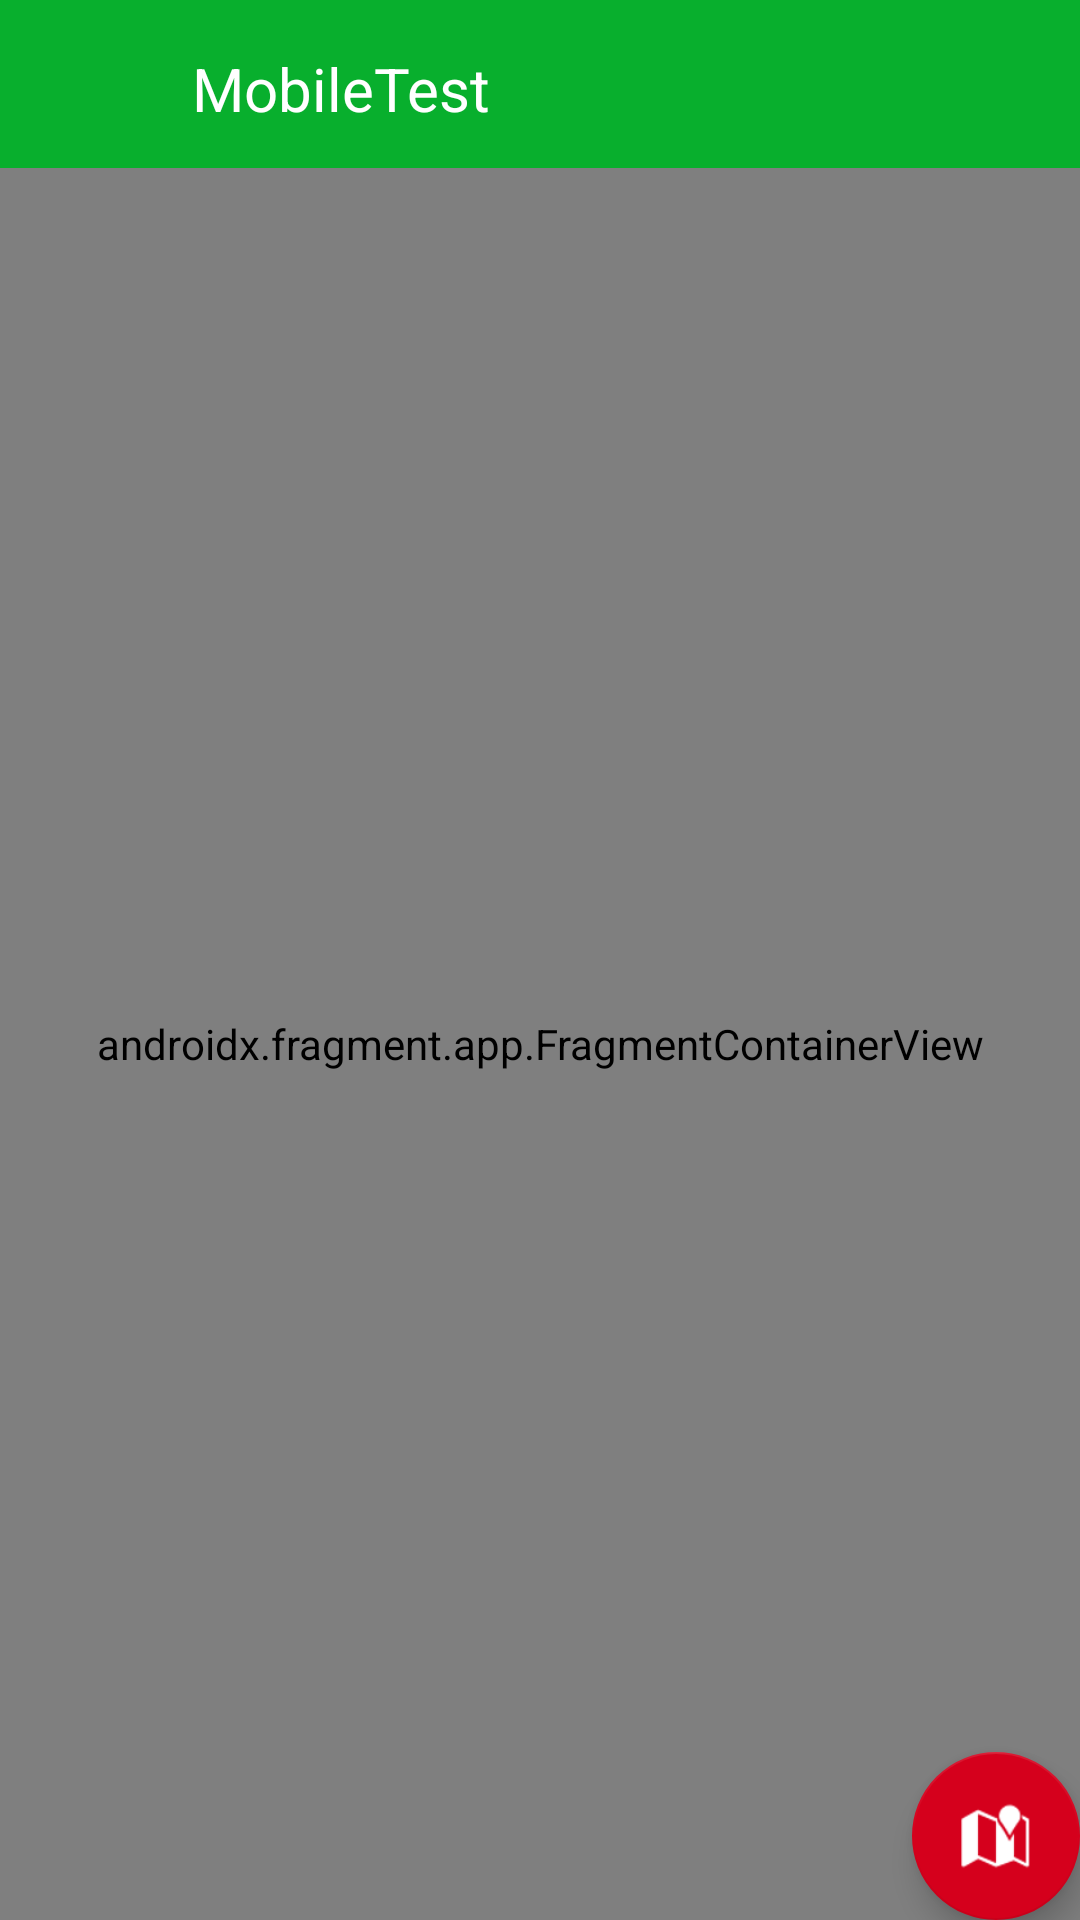

Screen size 1080×1920. Icon name, then its center in pixels as [x,y]:
map: [996,1836]
